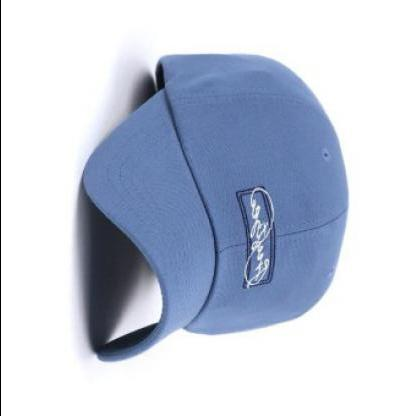cap: (75, 47, 358, 370)
